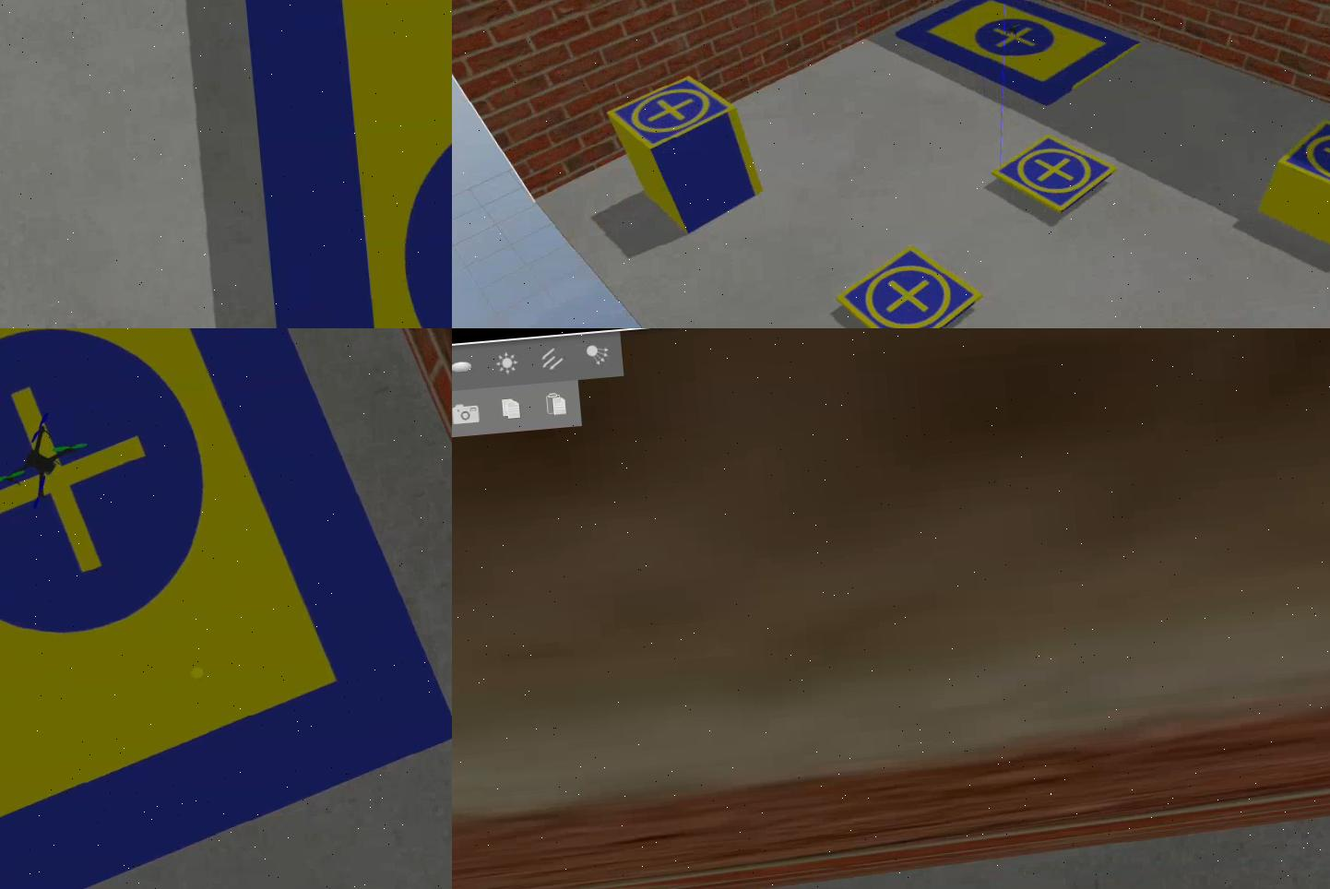large_base: (1, 329, 453, 889), (239, 1, 453, 329), (892, 1, 1148, 122)
small_base: (835, 239, 991, 329), (604, 72, 744, 160), (988, 131, 1122, 221), (1274, 111, 1330, 219)
